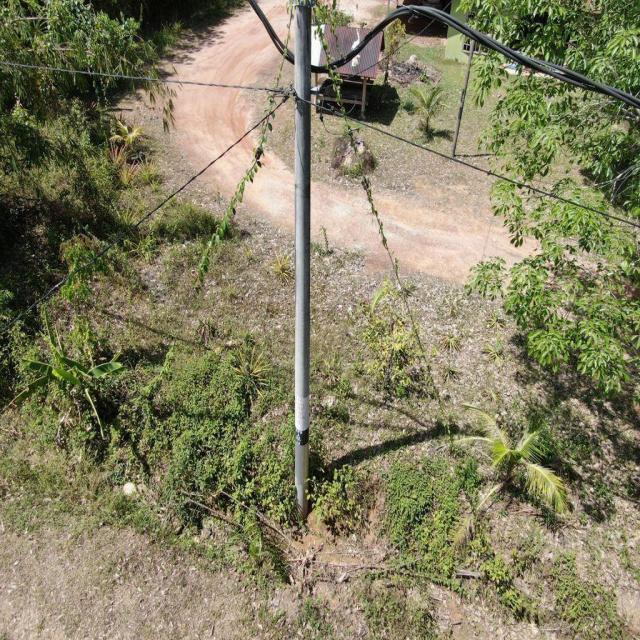critical vegetation: (313, 18, 490, 556), (139, 23, 292, 400)
